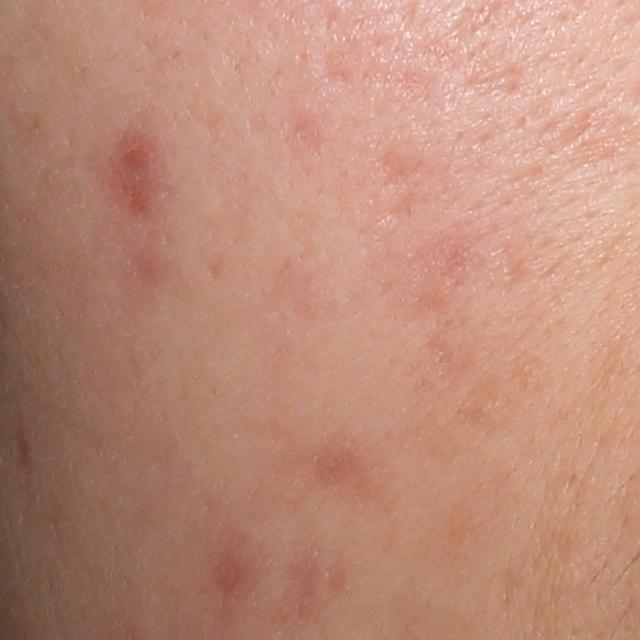atrophic_scar: (373, 189, 422, 231), (375, 153, 417, 192)
